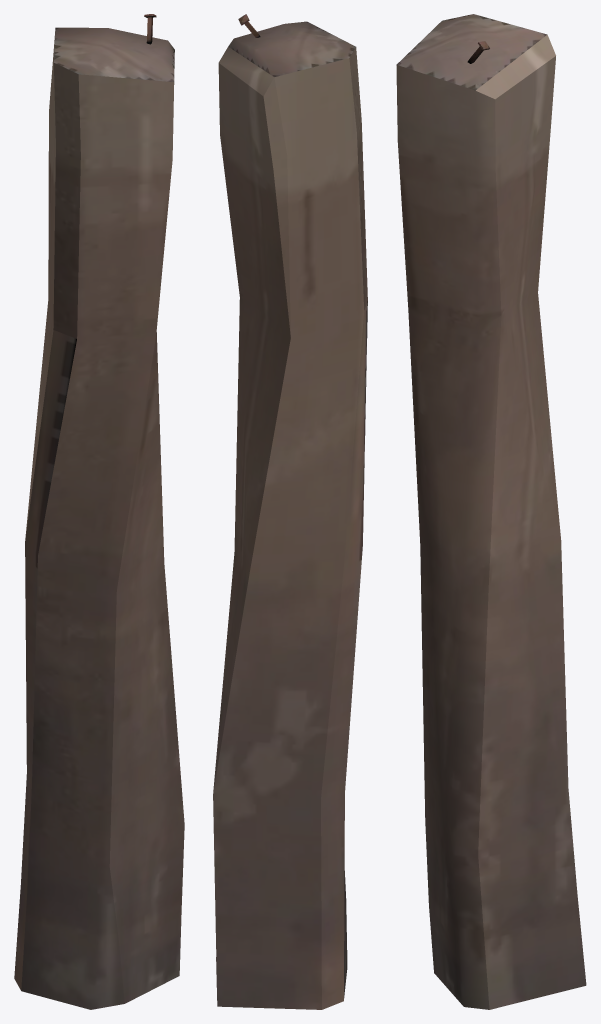
The picture shows the model from 3 angles, left to right: view 1: azimuth 30°, elevation 25°; view 2: azimuth 150°, elevation 25°; view 3: azimuth 270°, elevation 25°; orthographic projection.
Parts seen in each view (by area): view 1: body0_model0_lod0_mesh0; view 2: body0_model0_lod0_mesh0; view 3: body0_model0_lod0_mesh0.
Boxes of the visible parts, x1,y1,x2,y2 form: body0_model0_lod0_mesh0: [14, 14, 184, 1009]; body0_model0_lod0_mesh0: [213, 14, 367, 1009]; body0_model0_lod0_mesh0: [396, 14, 586, 1009].
Size of the model in its own units: 10.22 by 65.15 by 11.74.
Materials: 1 (1 with a texture image).
